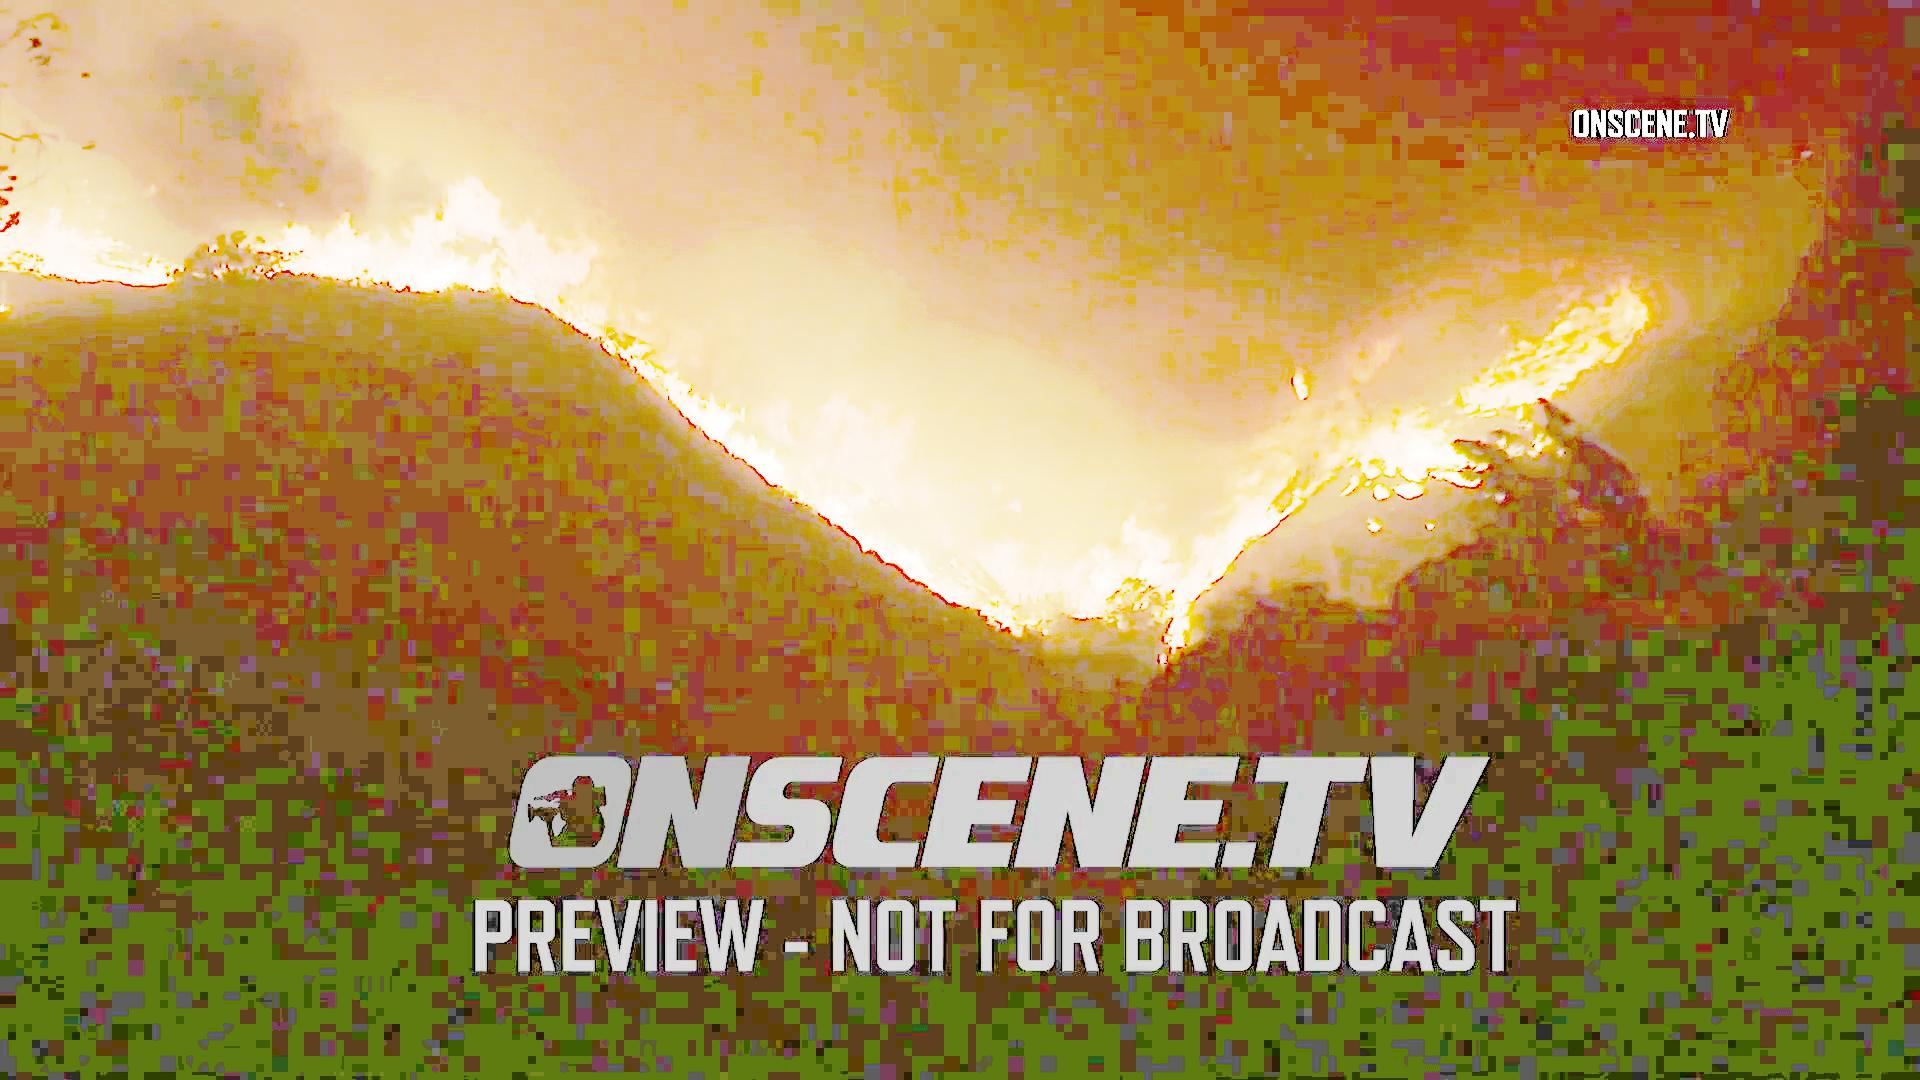fire: (264, 195, 621, 294), (767, 376, 920, 537), (1474, 281, 1648, 414), (1085, 508, 1218, 654)
